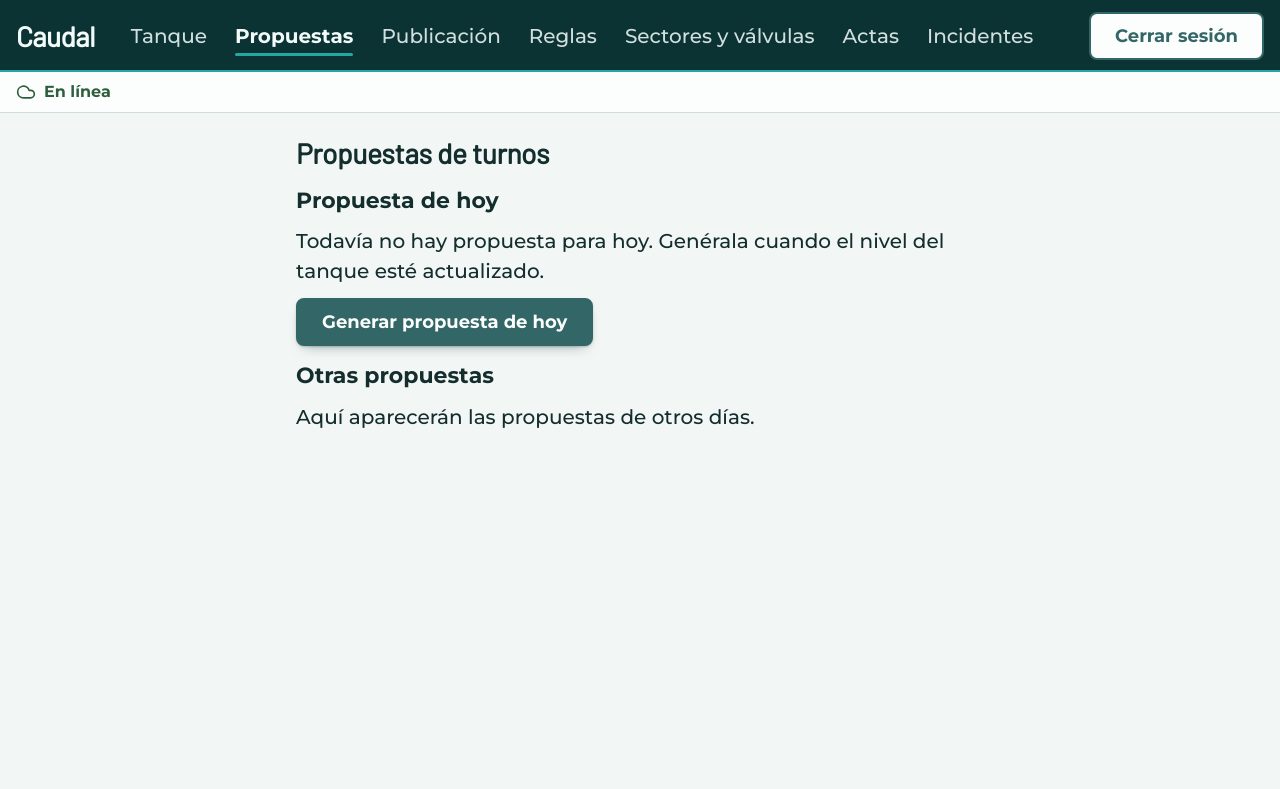
Scenario: proposal decision flow (F057) › blocks a modification whose reason is too short
The width and height of the screenshot is (1280, 789).
Click the button "Generar propuesta de hoy" at (445, 322), box [296, 298, 593, 346]
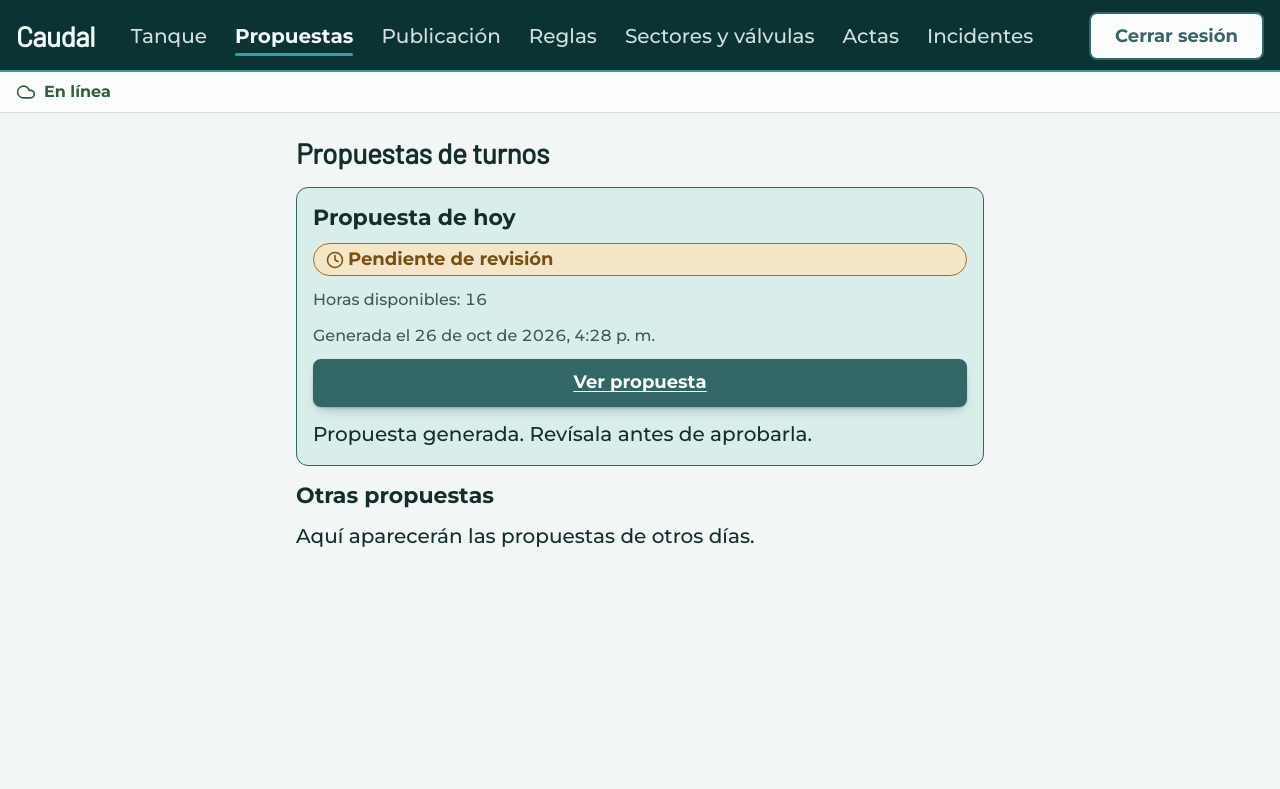
Click the link "Ver propuesta" at (640, 383), box [313, 359, 967, 407]
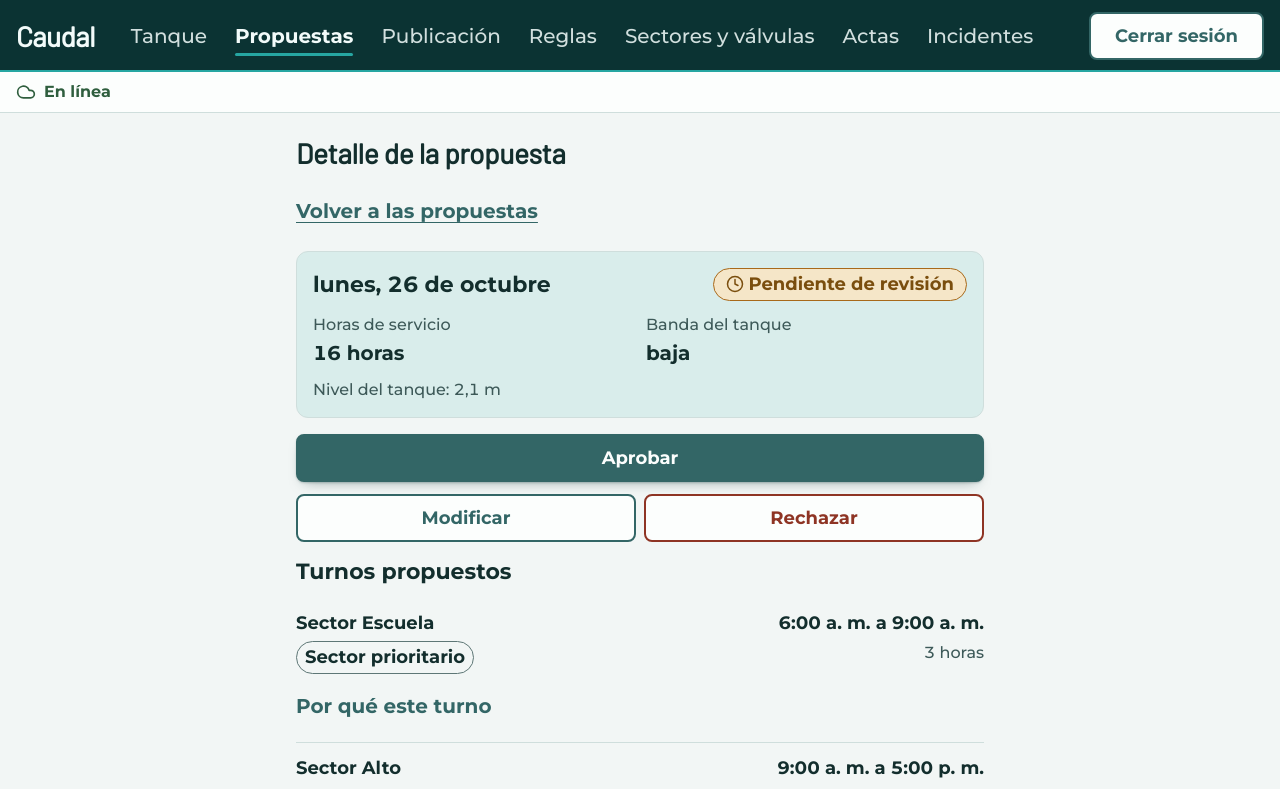
Click the button "Modificar" at (466, 518), box [296, 494, 636, 542]
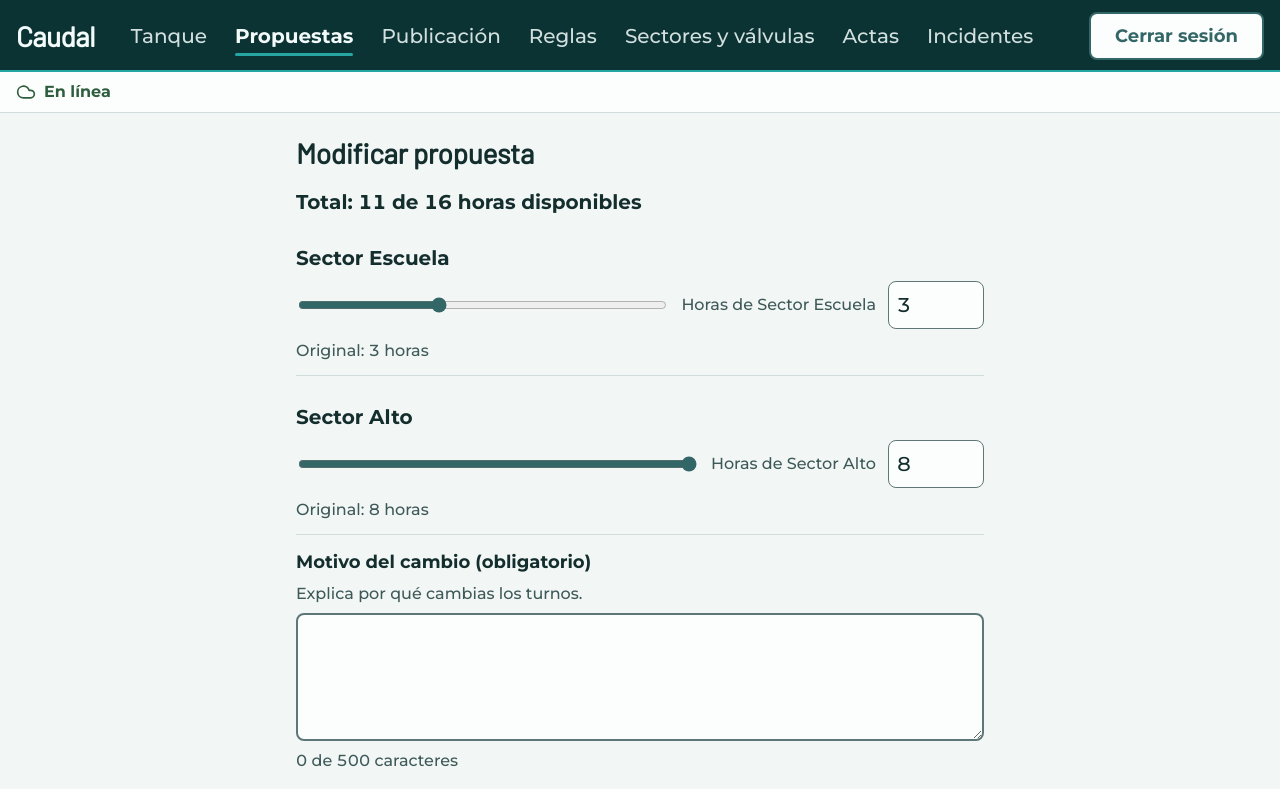
Replace the text in the number field labelled "Horas de Sector Alto" with "7" at (936, 464), box [888, 440, 984, 488]
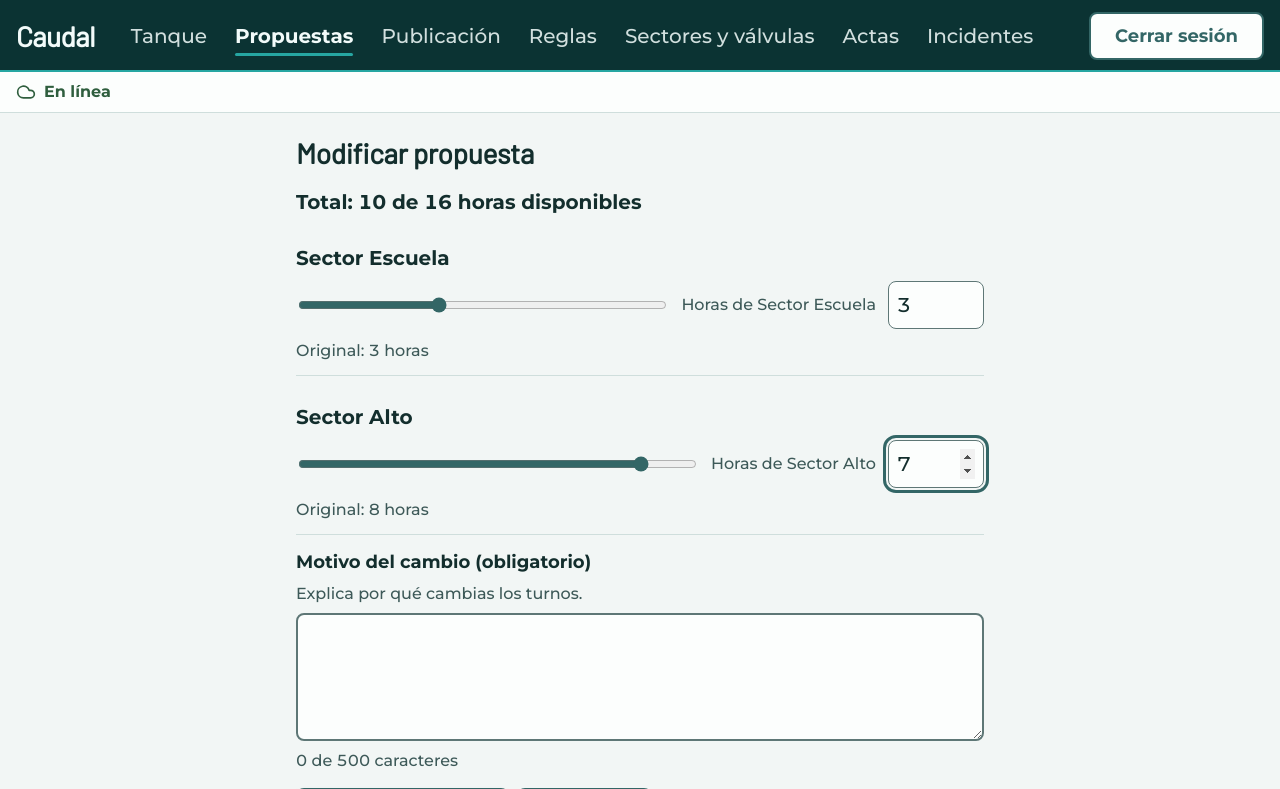
Type "corto" into the text box labelled "Motivo del cambio (obligatorio)" at (640, 677), box [296, 613, 984, 741]
(page scrolled)
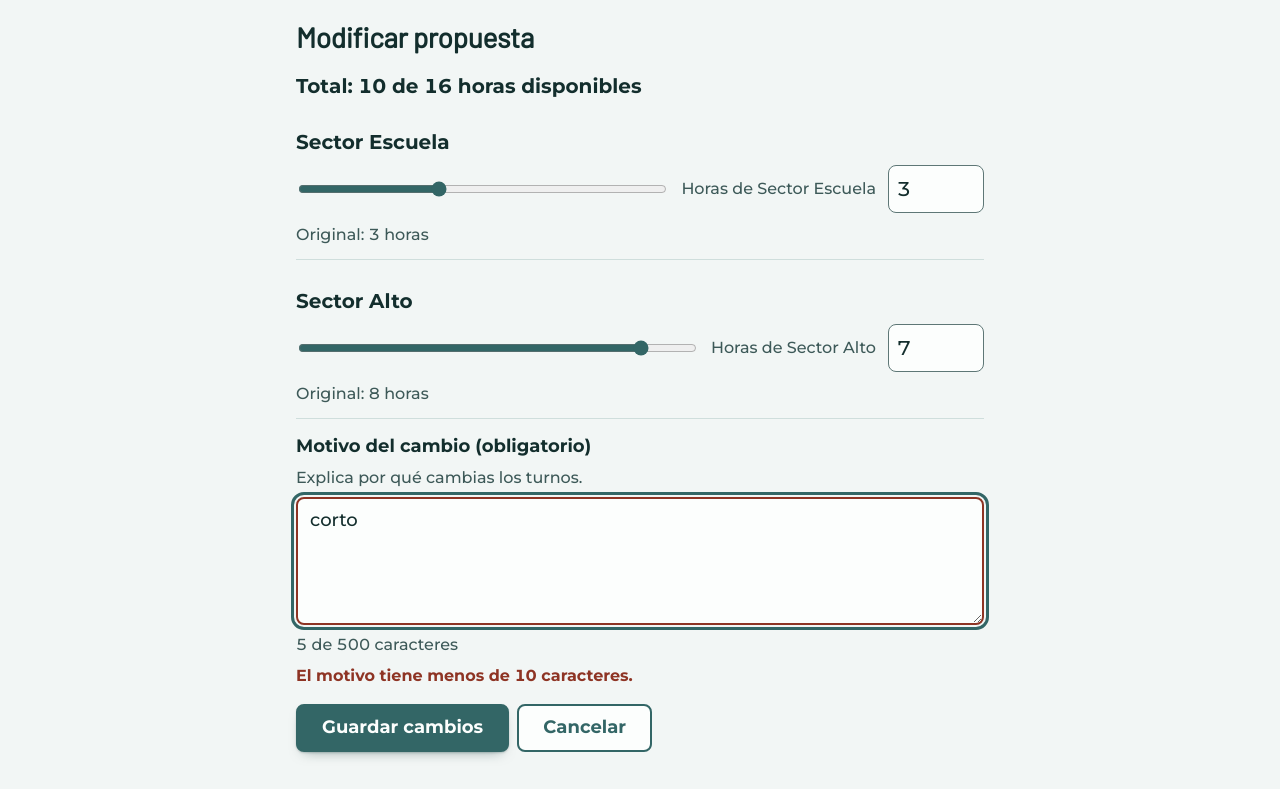
Expected: the text "El motivo tiene menos de 10 caracteres." is shown, [296, 666, 633, 685]
